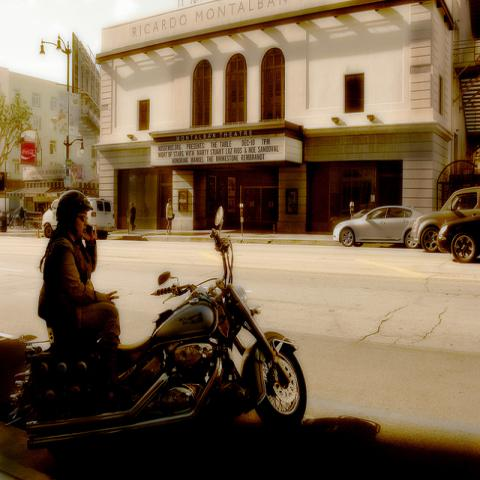car: (410, 186, 480, 253), (332, 206, 426, 249), (41, 198, 116, 241), (439, 216, 479, 264)
motorcycle: (9, 206, 308, 450)
